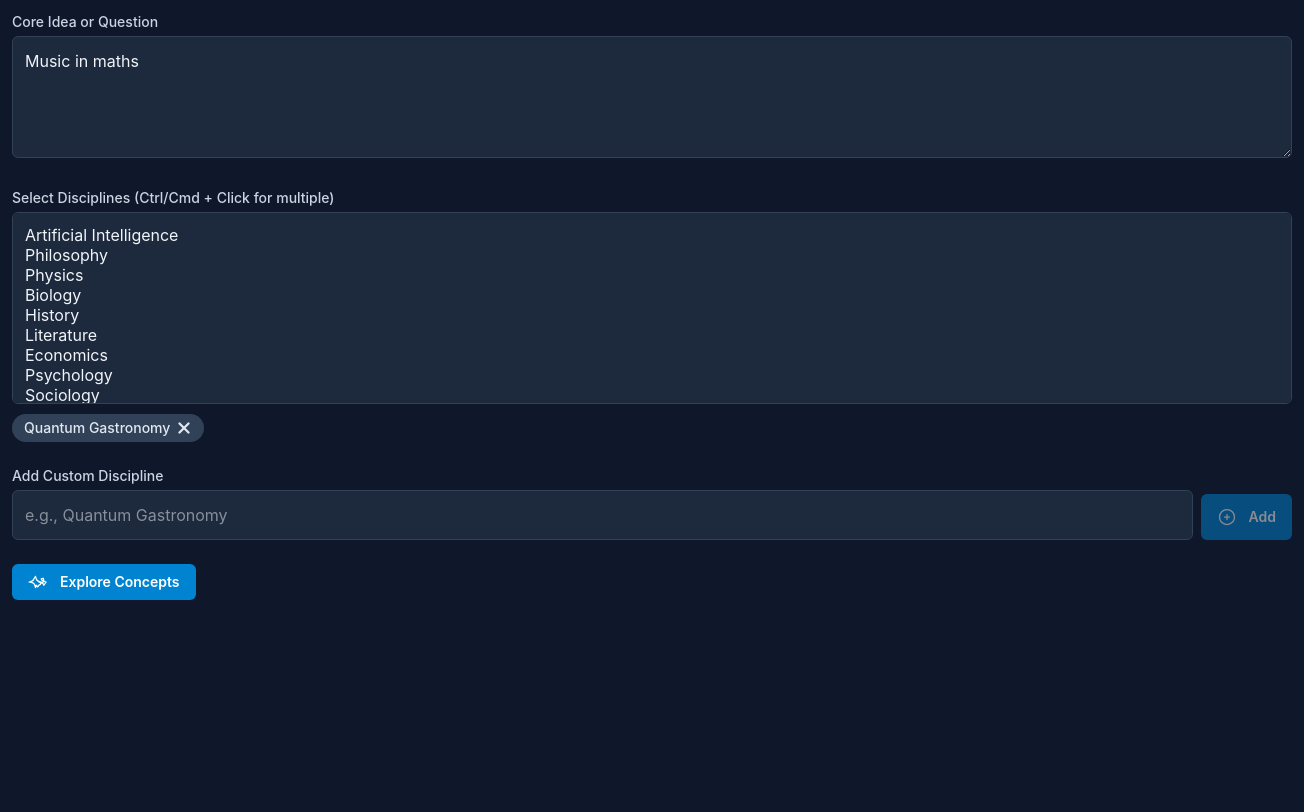
Test: IdeationStage — concept generation › shows an error alert when concept generation fails
Click the button "Explore Concepts": (104, 582) top-left (12, 564), bottom-right (196, 600)
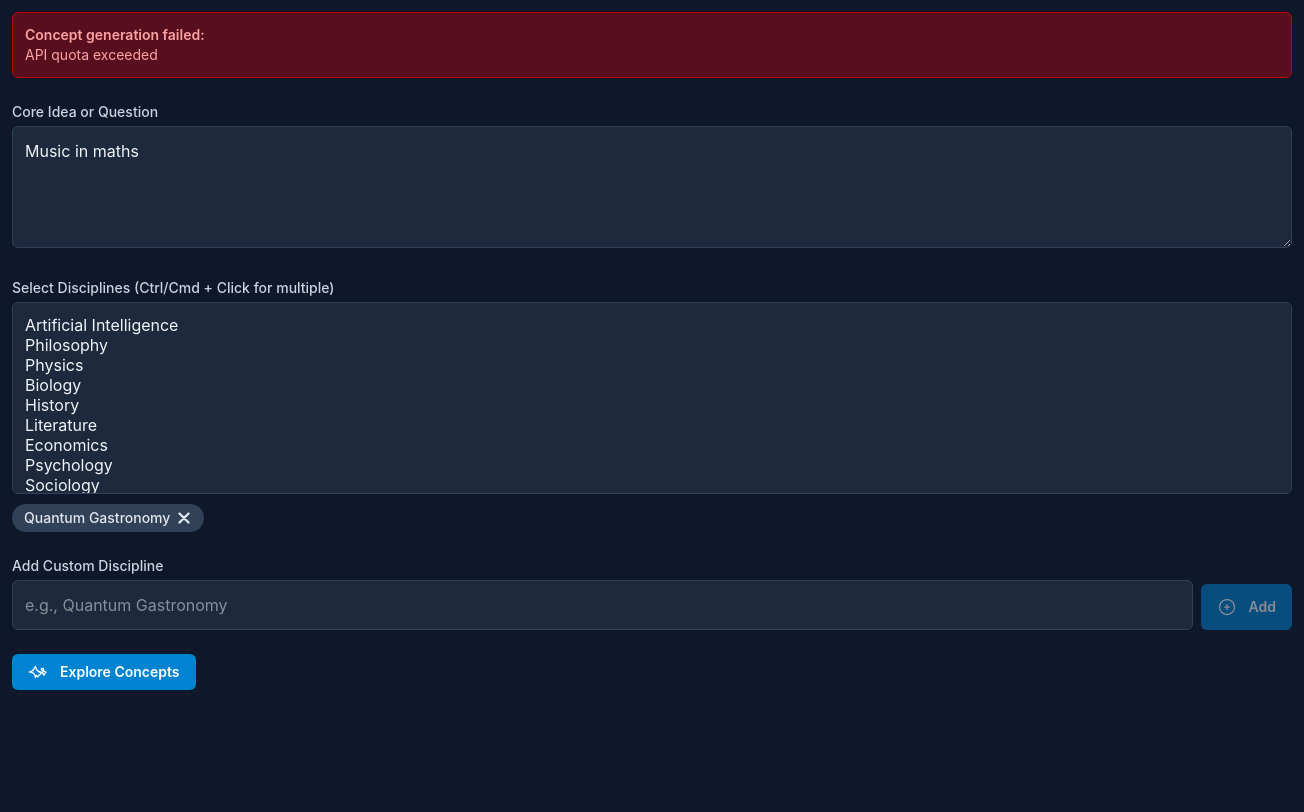
expect the message shows "Concept generation failed": met, box top-left (25, 26), bottom-right (205, 43)
